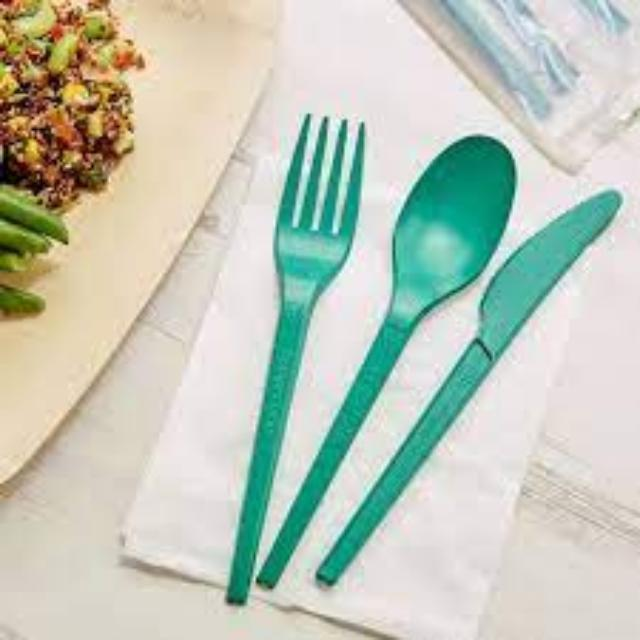Plastico descartable: (318, 191, 622, 584), (258, 136, 516, 587), (226, 114, 364, 603)
